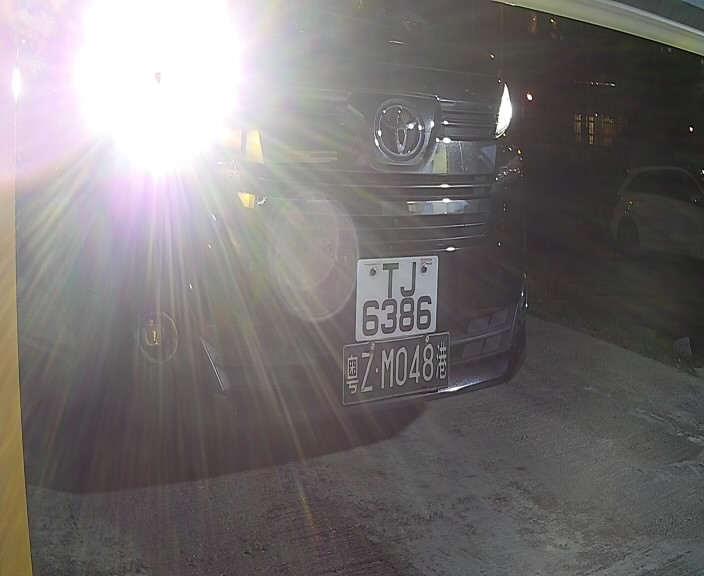Car: (7, 16, 559, 495)
License Plate: (343, 242, 455, 353)
